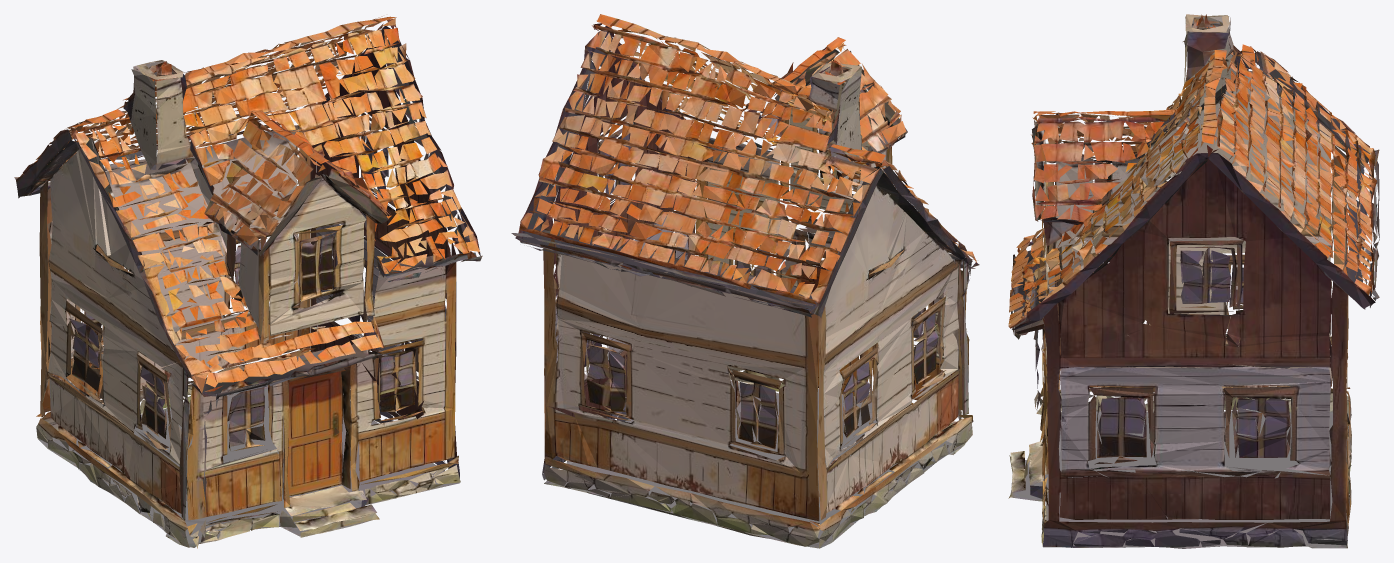
Rendered from house_small.glb.
The picture shows the model from 3 angles, left to right: view 1: azimuth 30°, elevation 25°; view 2: azimuth 150°, elevation 25°; view 3: azimuth 270°, elevation 25°; orthographic projection.
Parts seen in each view (by area): view 1: world; view 2: world; view 3: world.
Boxes of the visible parts, left/top/right/bottom form: world: left=14, top=16, right=482, bottom=548; world: left=511, top=14, right=979, bottom=548; world: left=1008, top=14, right=1379, bottom=548.
Bounding box in the file's own units: 1.52 × 1.97 × 1.56.
1 material, 1 textured.
